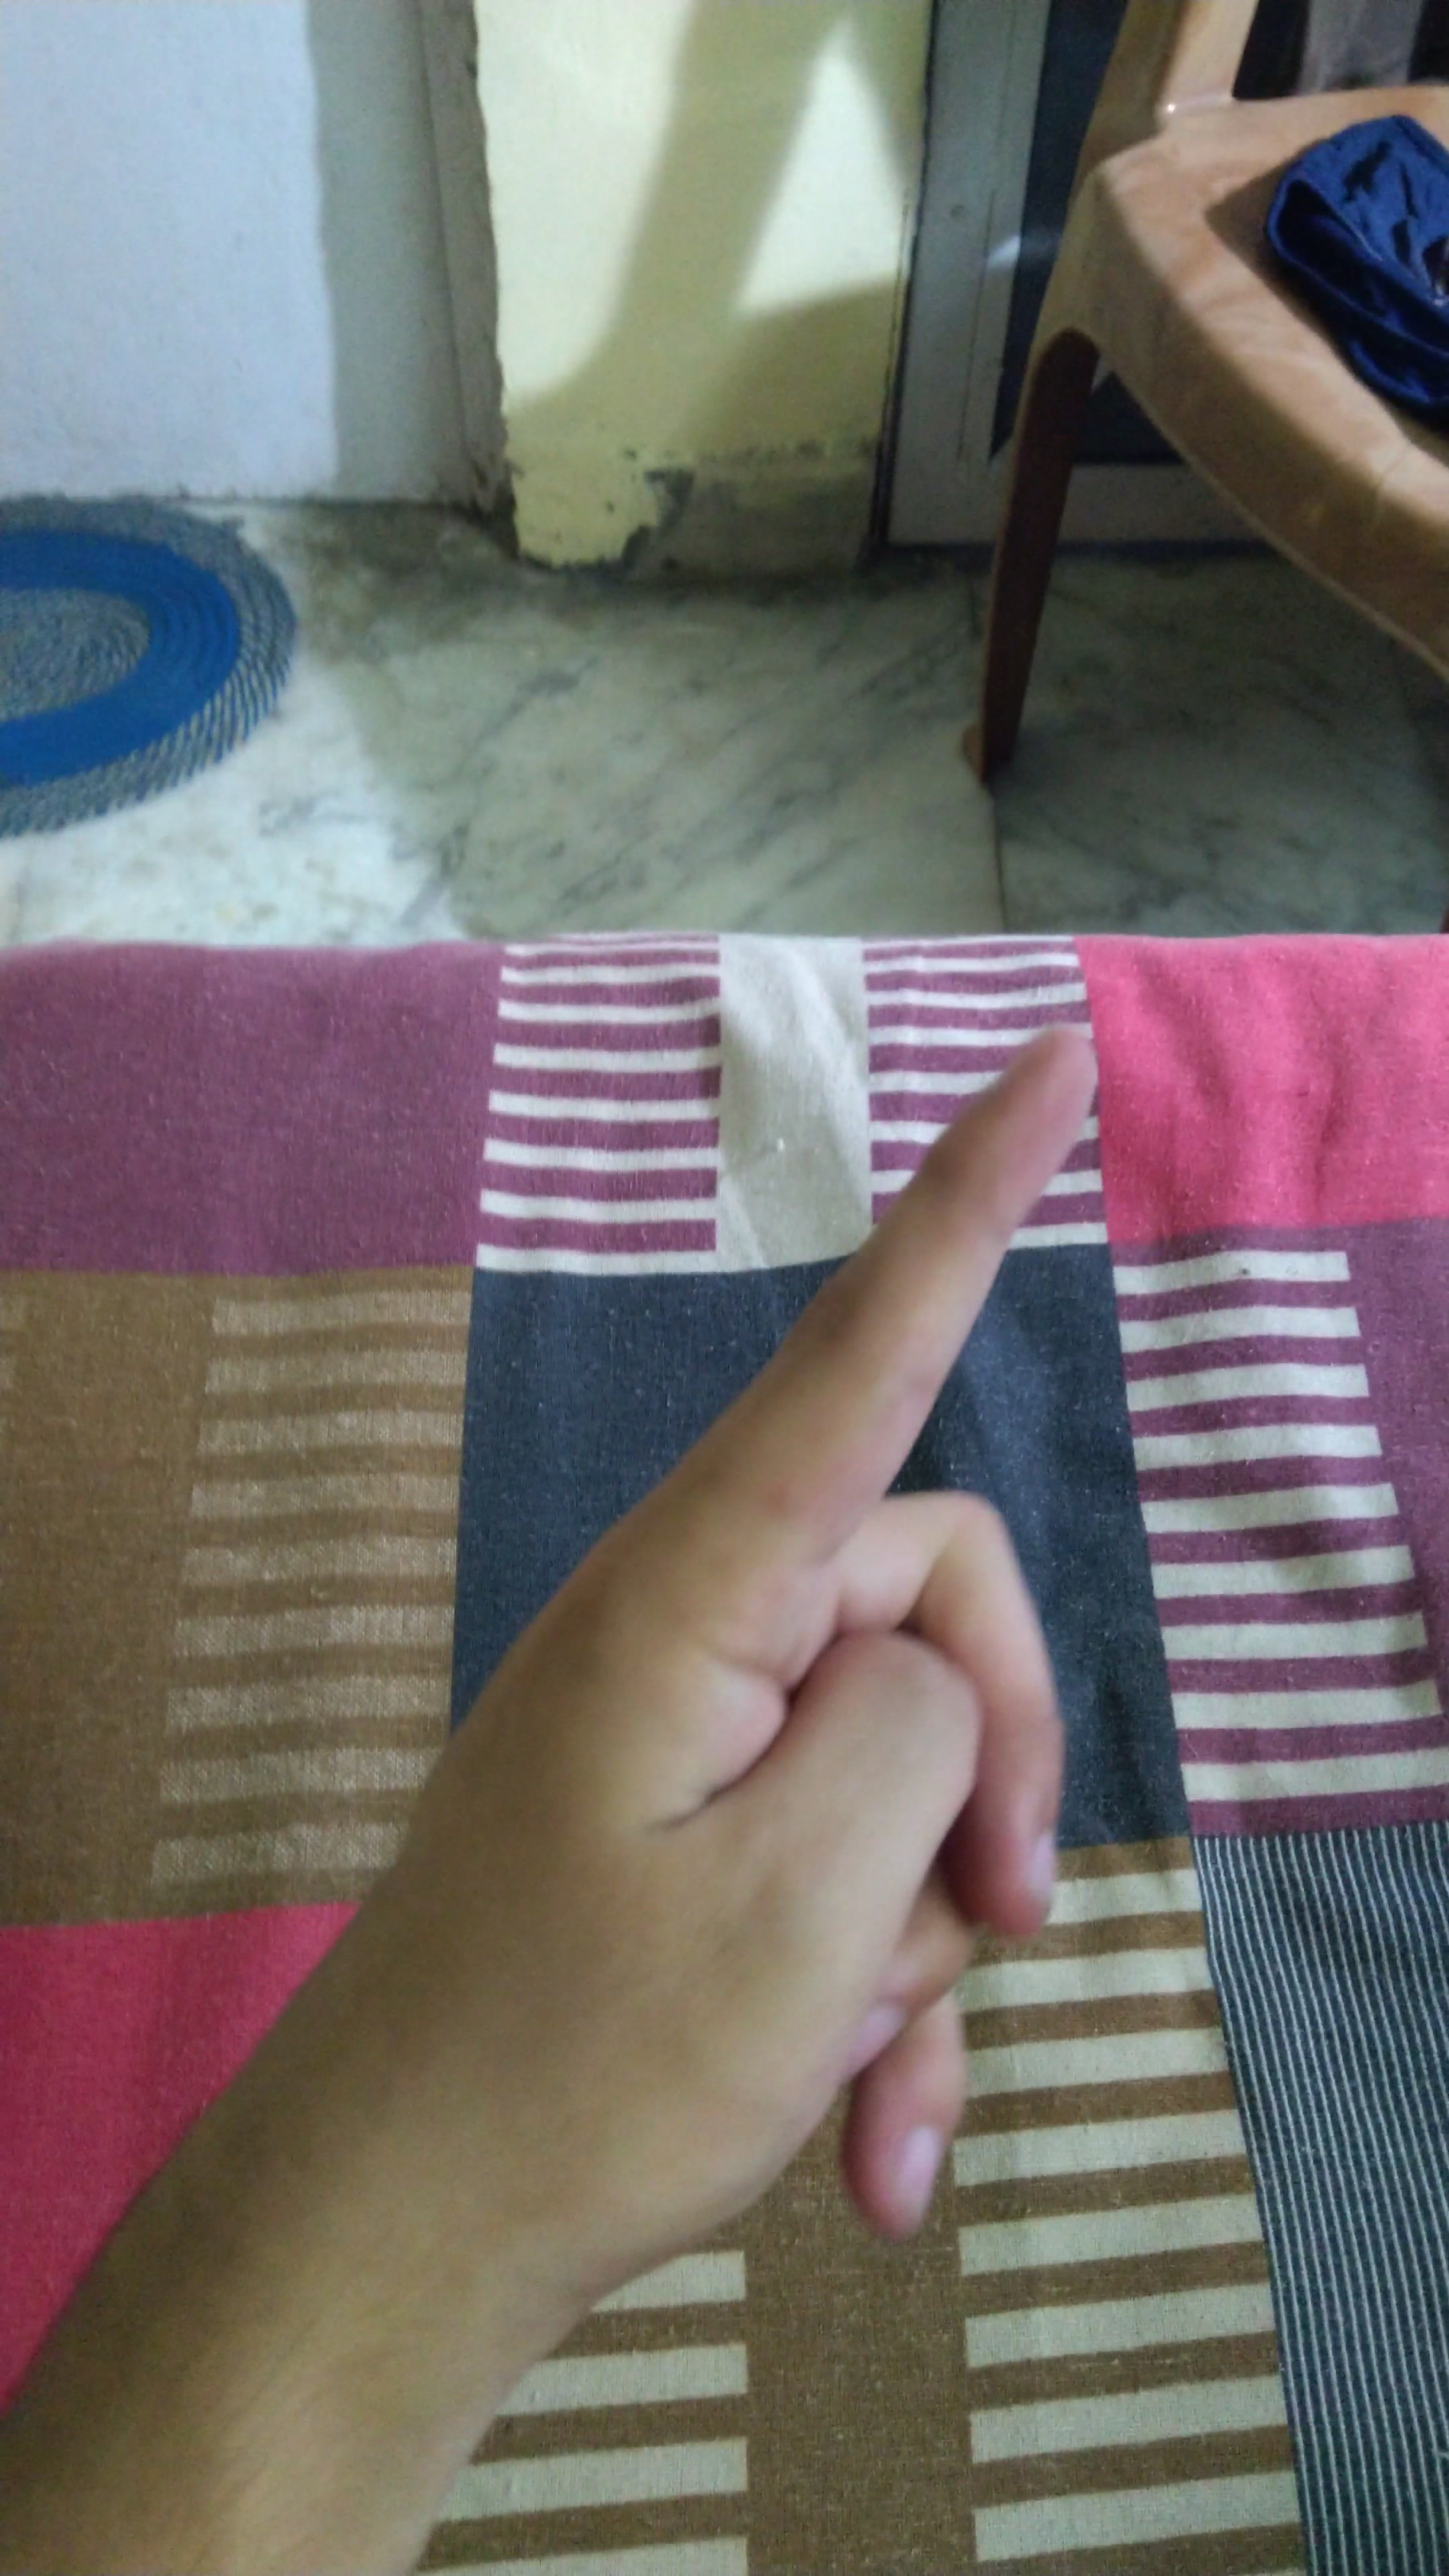hand: (320, 947, 1231, 2296)
